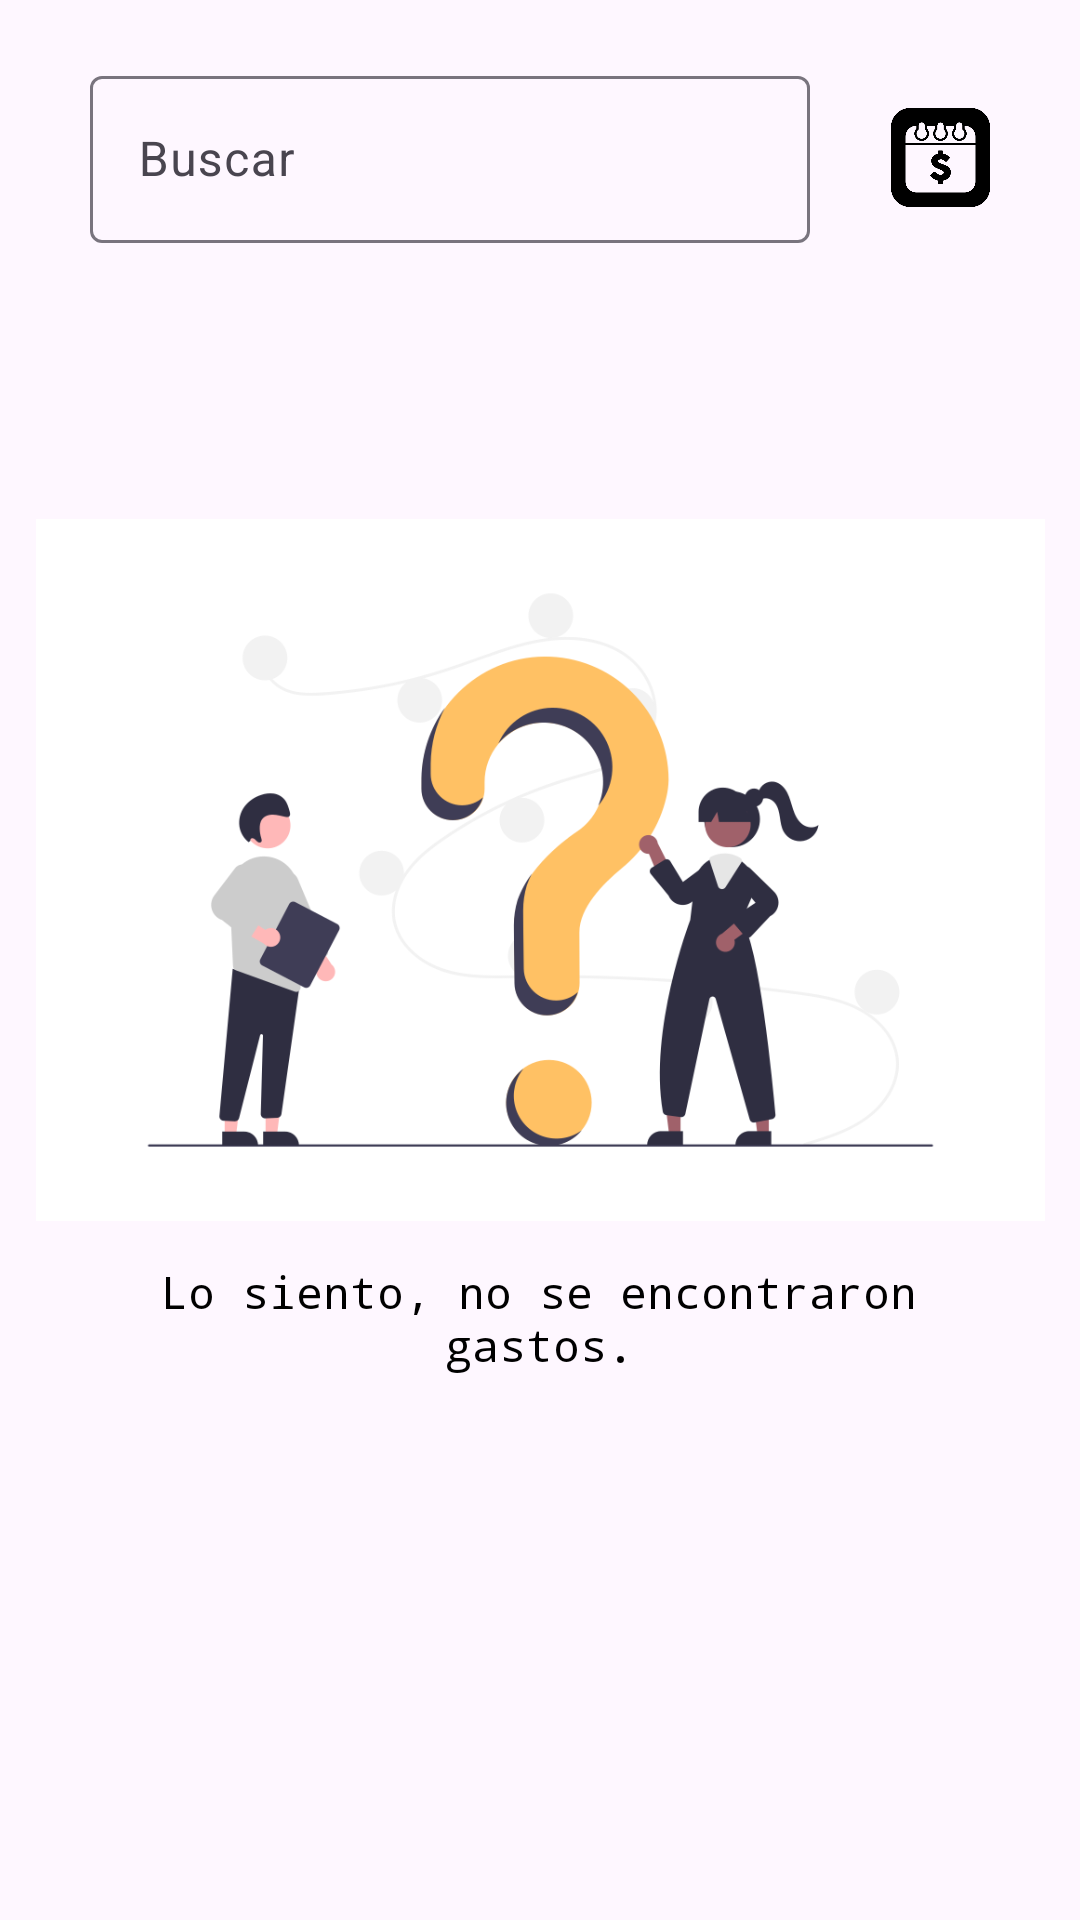

Where icons sit on this 1080×1920 app screen, as (x1, y1, x2, y2):
calendar dolar: (891, 108, 990, 207)
